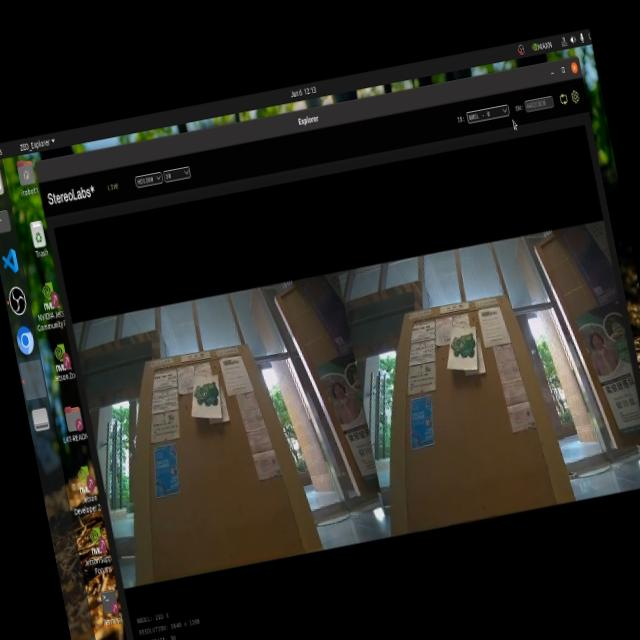green: (448, 324, 486, 370), (191, 372, 216, 408)
